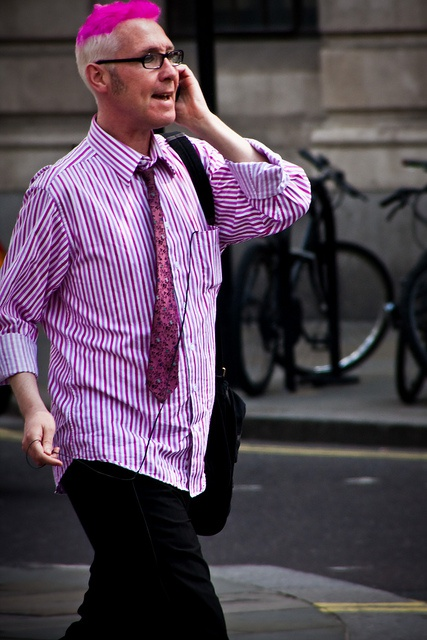non-vehicle: (224, 142, 394, 388), (382, 159, 427, 410)
